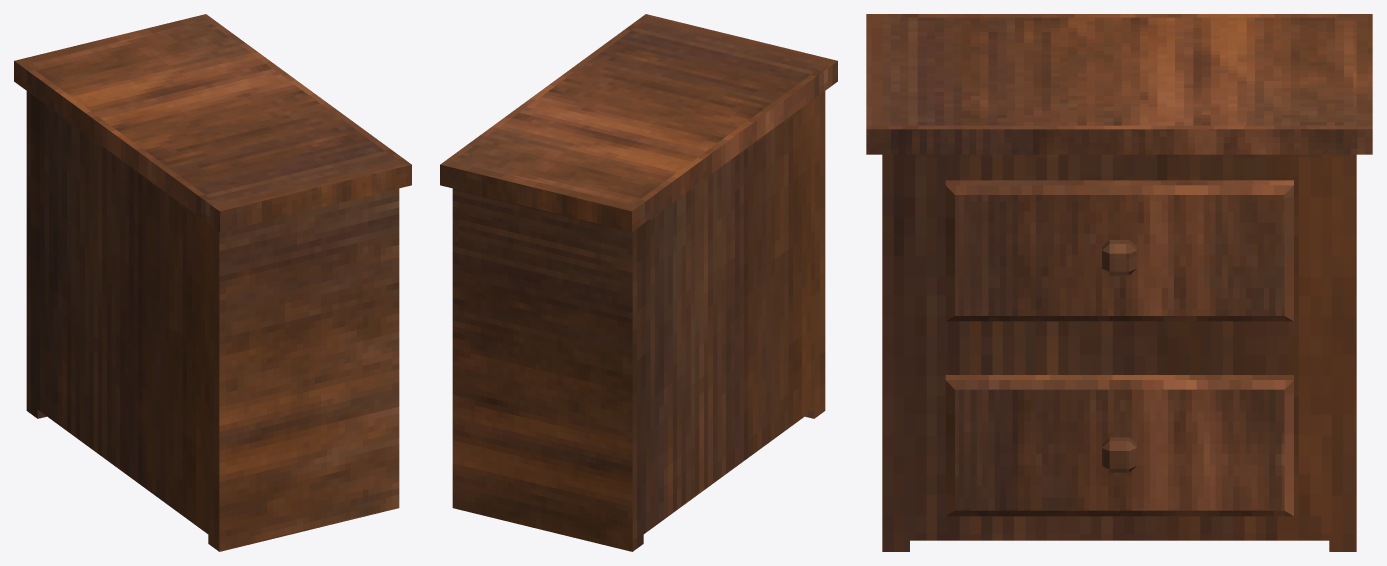
Rendered from dresser.fbx.
3 renders of one model, left to right at view 1: azimuth 30°, elevation 25°; view 2: azimuth 150°, elevation 25°; view 3: azimuth 270°, elevation 25°, orthographic. The views are drawn at different scales.
Parts seen in each view (by area): view 1: dresser; view 2: dresser; view 3: dresser.
Part boxes in pixels (bbox=[...]): dresser: bbox=[14, 14, 411, 551]; dresser: bbox=[440, 14, 837, 551]; dresser: bbox=[866, 14, 1372, 551].
Size of the model in its own units: 252 by 398 by 429.
